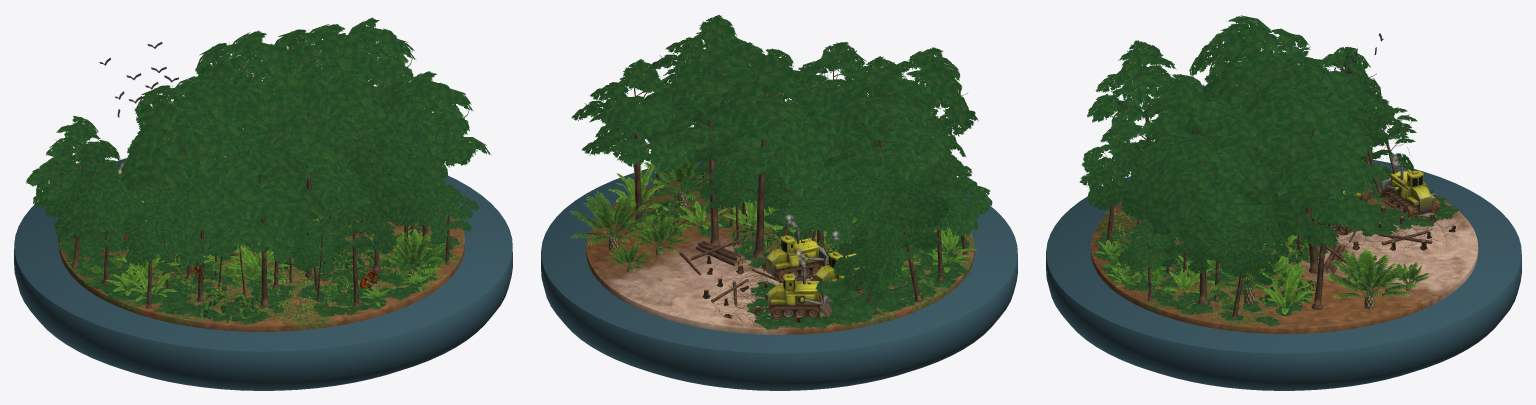
Rendered from borneo.glb.
3 renders of one model, left to right at view 1: azimuth 30°, elevation 25°; view 2: azimuth 150°, elevation 25°; view 3: azimuth 270°, elevation 25°, orthographic. The views are drawn at different scales.
Parts seen in each view (by area): view 1: Tree_Leaves_Foliage_0, Socle_Socle_0, Ground_Branch_Foliage_0, Plateau_Ground_0, Ground_Bush_Foliage_0, Tree_Trunks_Trees_0; view 2: Tree_Leaves_Foliage_0, Socle_Socle_0, Plateau_Ground_0, Ground_Bush_Foliage_0, Ground_Branch_Foliage_0, Buldozer, Tree_Trunks_Trees_0, Troncs_Coupes_TroncCoupe_0, Souches_Souche_0; view 3: Tree_Leaves_Foliage_0, Socle_Socle_0, Plateau_Ground_0, Ground_Bush_Foliage_0, Ground_Branch_Foliage_0, Tree_Trunks_Trees_0, Buldozer, Troncs_Coupes_TroncCoupe_0, Souches_Souche_0.
Part boxes in pixels (left/top/right/bottom): Tree_Leaves_Foliage_0: left=26, top=17, right=491, bottom=273; Socle_Socle_0: left=14, top=151, right=512, bottom=390; Ground_Branch_Foliage_0: left=54, top=203, right=460, bottom=324; Plateau_Ground_0: left=59, top=156, right=464, bottom=331; Ground_Bush_Foliage_0: left=82, top=135, right=446, bottom=323; Tree_Trunks_Trees_0: left=66, top=81, right=449, bottom=308; Tree_Leaves_Foliage_0: left=571, top=14, right=992, bottom=306; Socle_Socle_0: left=541, top=156, right=1017, bottom=390; Plateau_Ground_0: left=586, top=166, right=974, bottom=334; Ground_Bush_Foliage_0: left=569, top=146, right=976, bottom=289; Ground_Branch_Foliage_0: left=625, top=177, right=970, bottom=329; Buldozer: left=763, top=226, right=864, bottom=319; Tree_Trunks_Trees_0: left=632, top=96, right=968, bottom=317; Troncs_Coupes_TroncCoupe_0: left=679, top=239, right=748, bottom=306; Souches_Souche_0: left=702, top=255, right=801, bottom=323; Tree_Leaves_Foliage_0: left=1079, top=15, right=1417, bottom=285; Socle_Socle_0: left=1046, top=159, right=1521, bottom=390; Plateau_Ground_0: left=1090, top=196, right=1478, bottom=333; Ground_Bush_Foliage_0: left=1095, top=202, right=1429, bottom=316; Ground_Branch_Foliage_0: left=1093, top=147, right=1462, bottom=326; Tree_Trunks_Trees_0: left=1106, top=109, right=1428, bottom=318; Buldozer: left=1327, top=163, right=1440, bottom=235; Troncs_Coupes_TroncCoupe_0: left=1323, top=230, right=1431, bottom=279; Souches_Souche_0: left=1332, top=193, right=1455, bottom=260.
Bounding box in the file's own units: 4.42 × 2.66 × 4.42.
12 materials, 10 textured.
